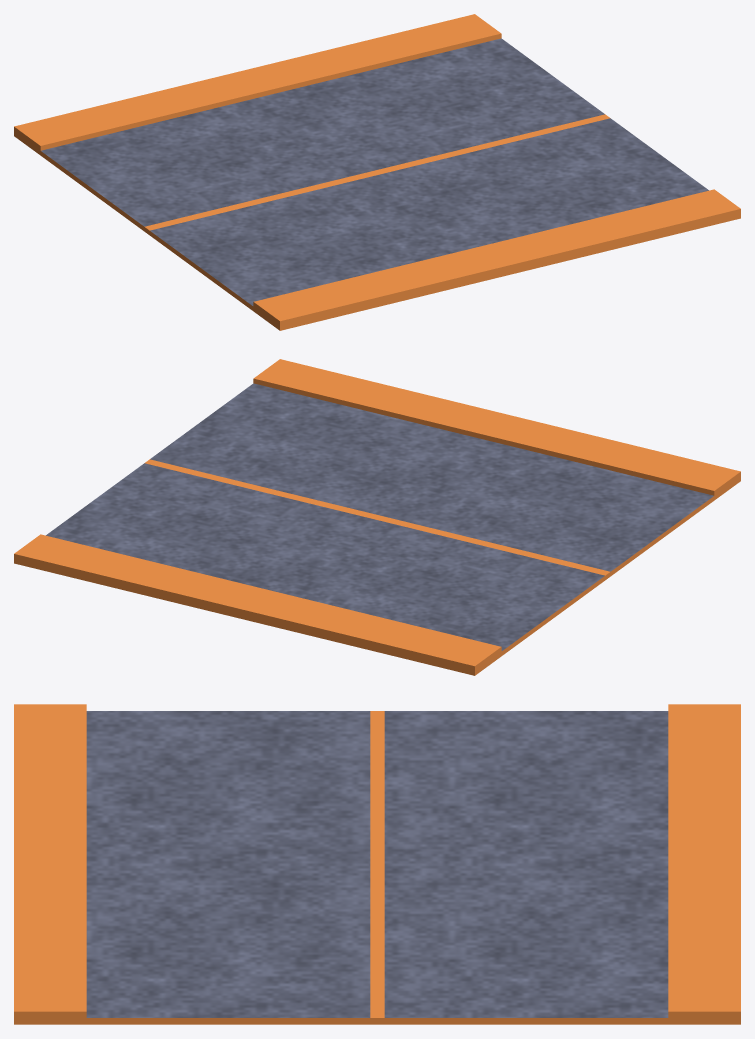
The model's file is road-straight.obj.
3 renders of one model, top to bottom at view 1: azimuth 30°, elevation 25°; view 2: azimuth 150°, elevation 25°; view 3: azimuth 270°, elevation 25°, orthographic. The views are drawn at different scales.
Bounding box in the file's own units: 1 × 0.02 × 1.
